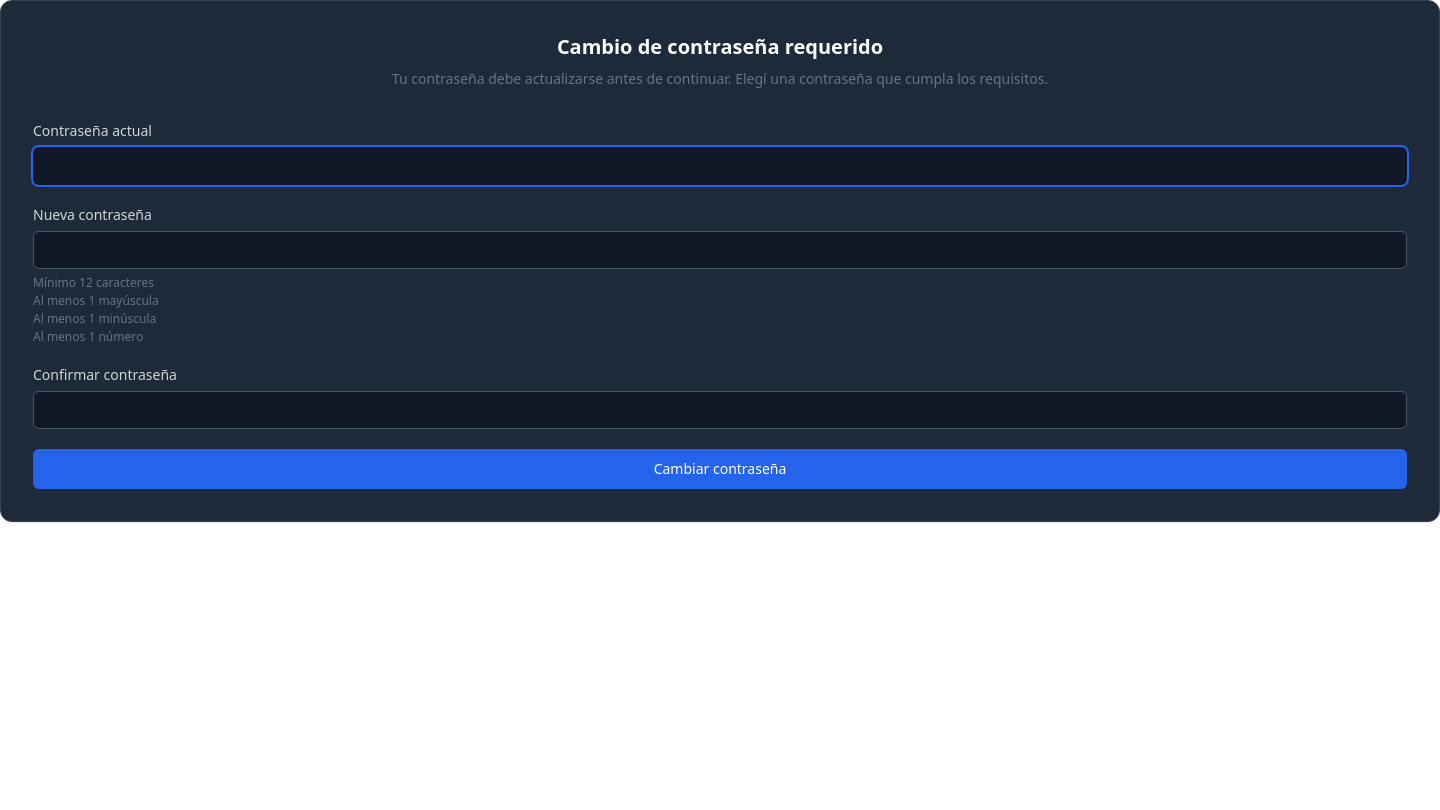
ForcePasswordChange — US-27 (D-2, complejidad y contraseña actual) › un 401 del backend (contraseña actual incorrecta) muestra el detail recibido
The image size is (1440, 810).
Type "wrong-current" into the password field labelled "Contraseña actual" at (720, 166), box left=33, top=147, right=1407, bottom=185
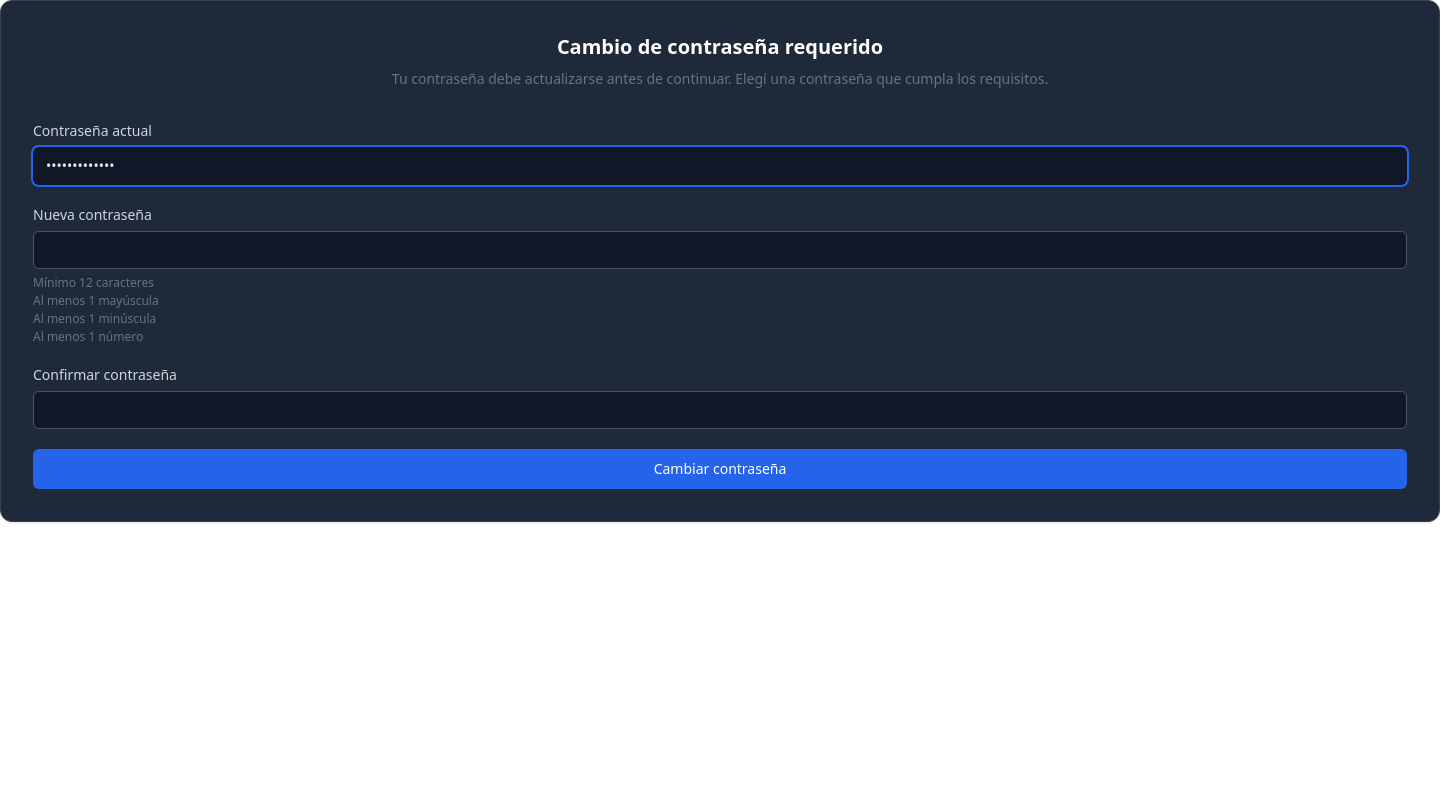
Type "GoodPass123x" into the password field labelled "Nueva contraseña" at (720, 250), box left=33, top=231, right=1407, bottom=269
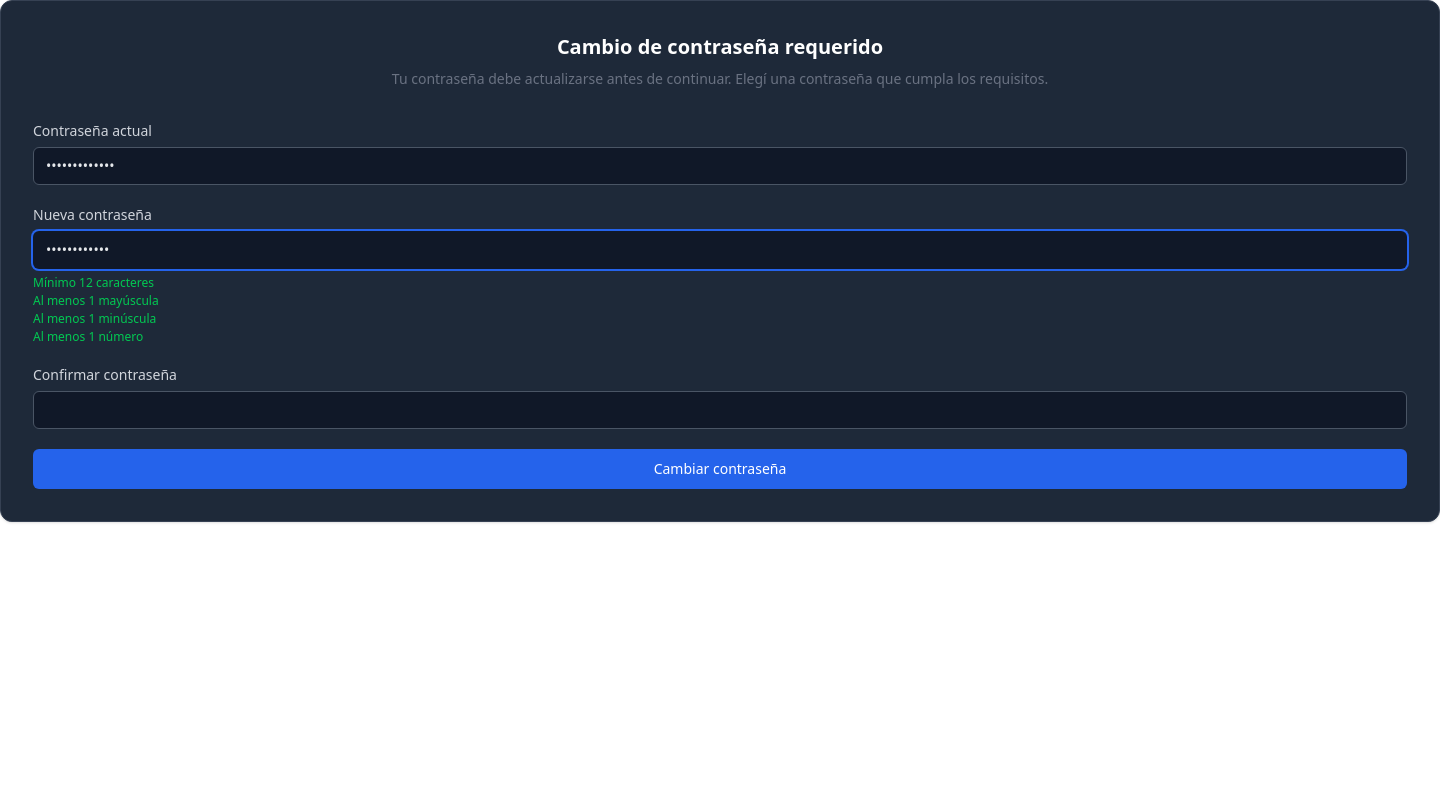
Type "GoodPass123x" into the password field labelled "Confirmar contraseña" at (720, 410), box left=33, top=391, right=1407, bottom=429
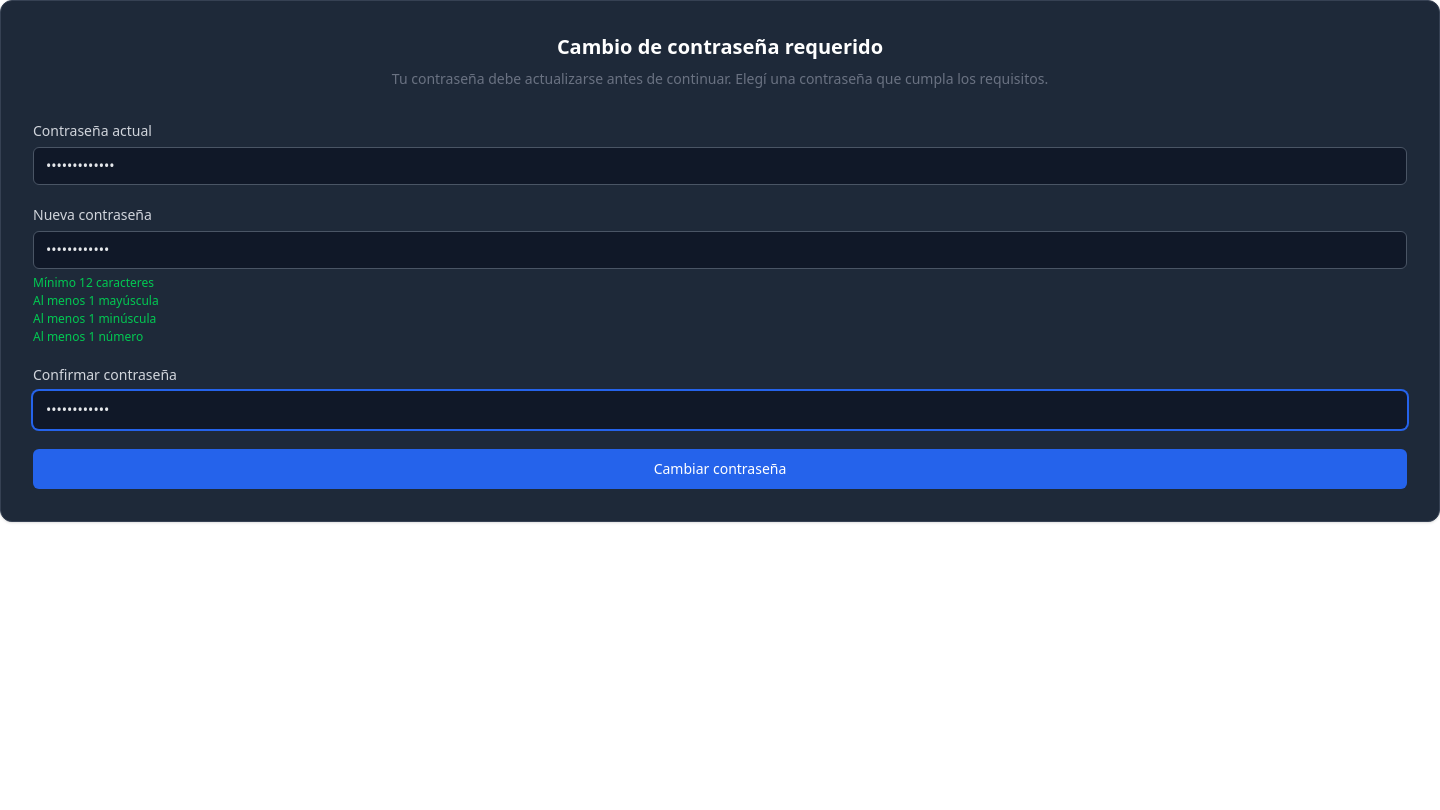
Click the button "Cambiar contraseña" at (720, 469), box left=33, top=449, right=1407, bottom=489
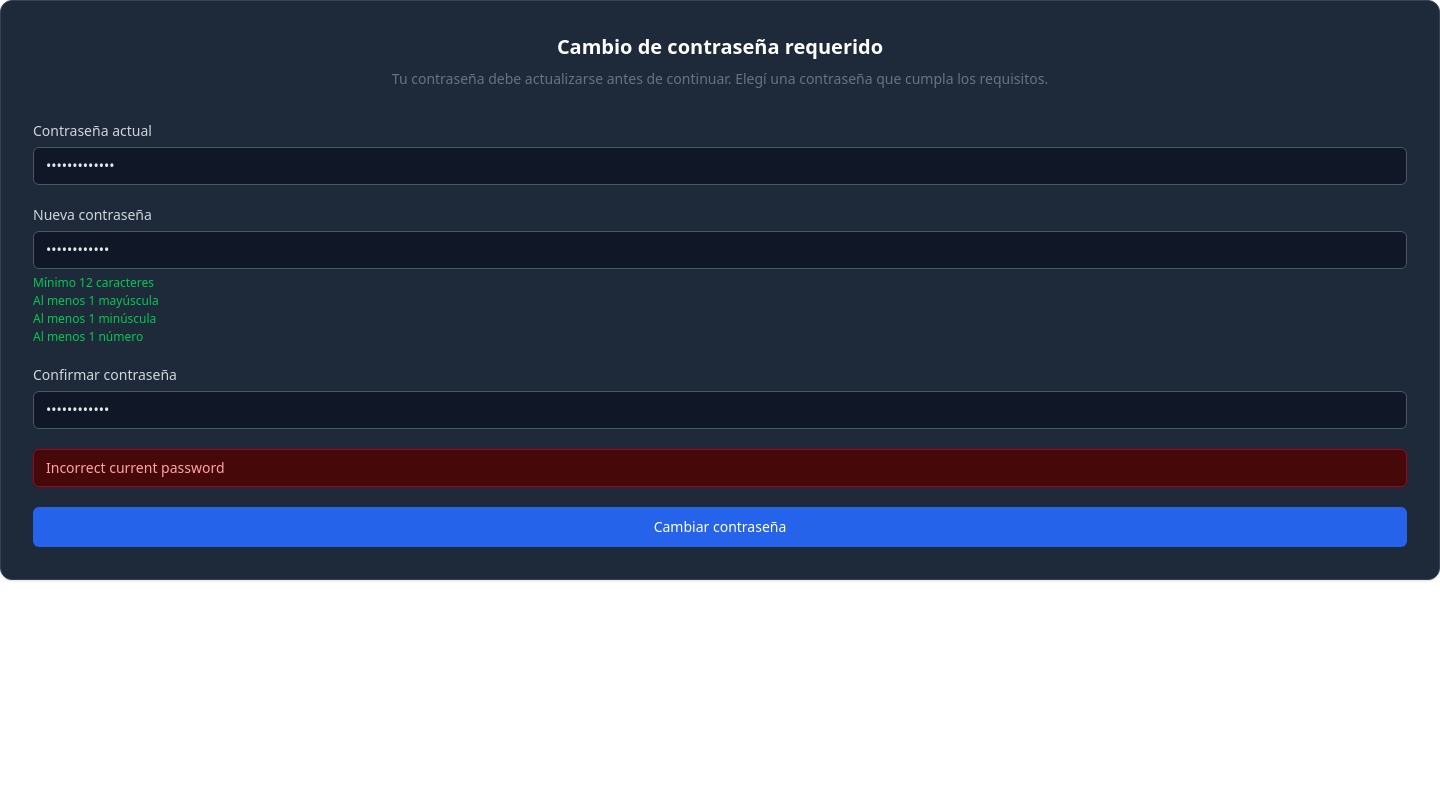
Check: the message reads "Incorrect current password", box left=46, top=458, right=224, bottom=477
